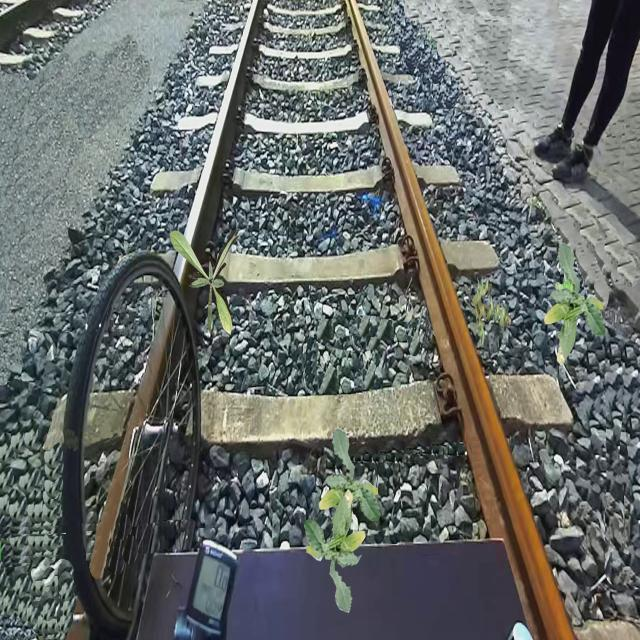Plant: (170, 228, 242, 336), (318, 427, 380, 552), (304, 489, 366, 614), (544, 242, 606, 366), (471, 276, 512, 348), (555, 273, 576, 306)
